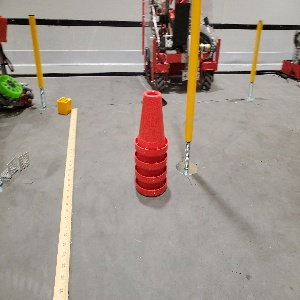Red_4: (133, 90, 169, 198)
